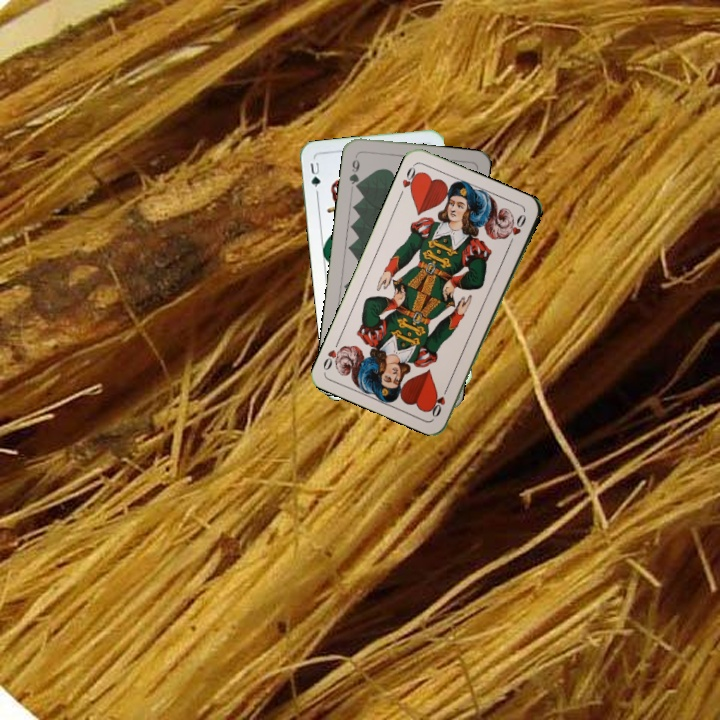G9: (345, 151, 362, 192)
GU: (306, 158, 323, 196)
HO: (395, 161, 422, 200), (428, 382, 451, 420)
